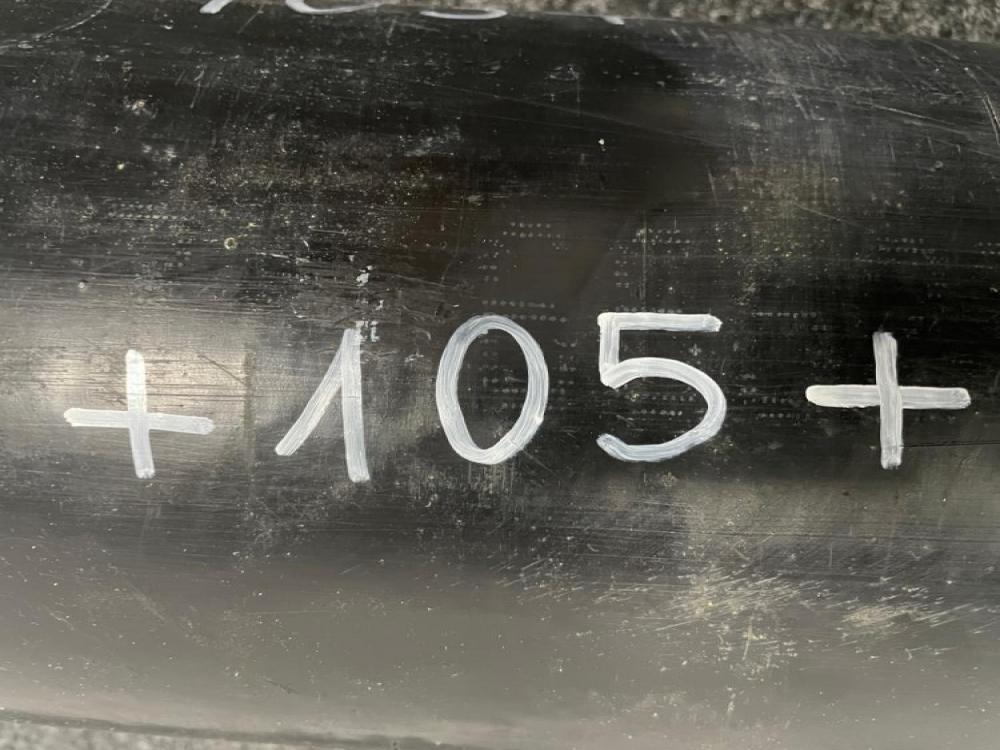+: (367, 600, 565, 736), (360, 44, 537, 162)
0: (379, 323, 589, 418)
1: (357, 204, 567, 284)
5: (379, 442, 589, 548)
